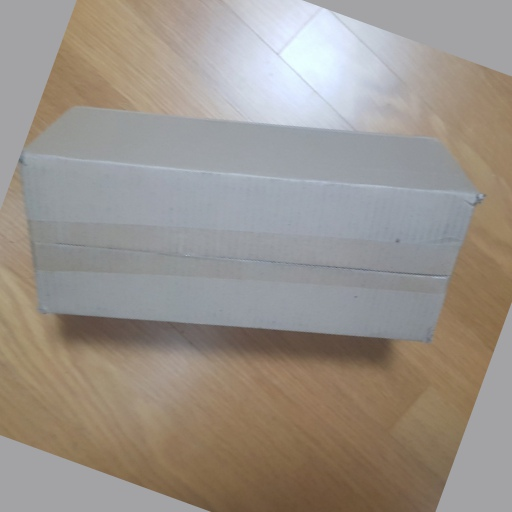Paper_0: (14, 102, 486, 349)
